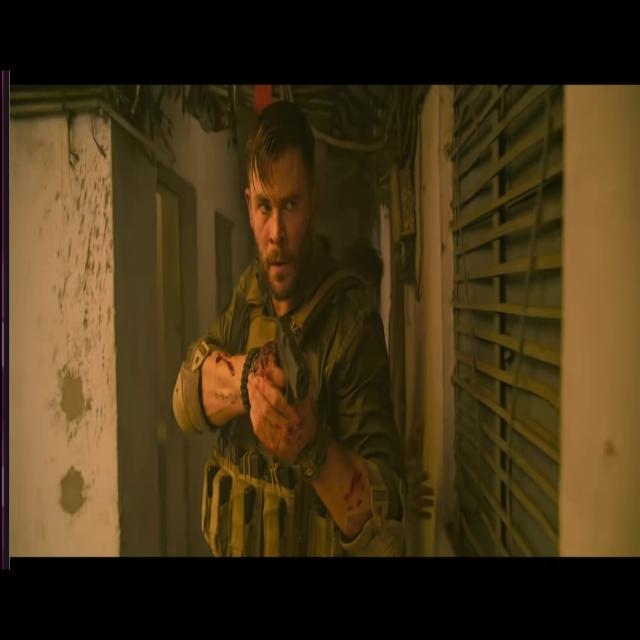weapons: (256, 294, 314, 442)
